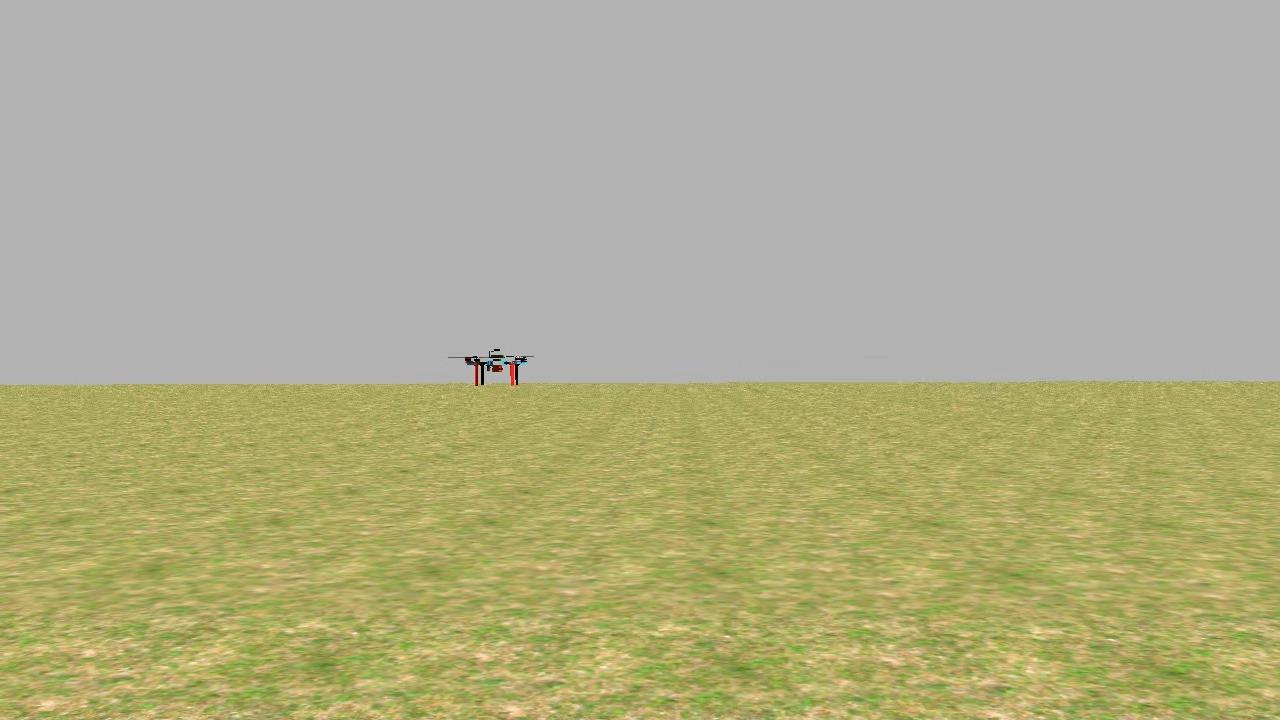UAV: (458, 340, 536, 388)
